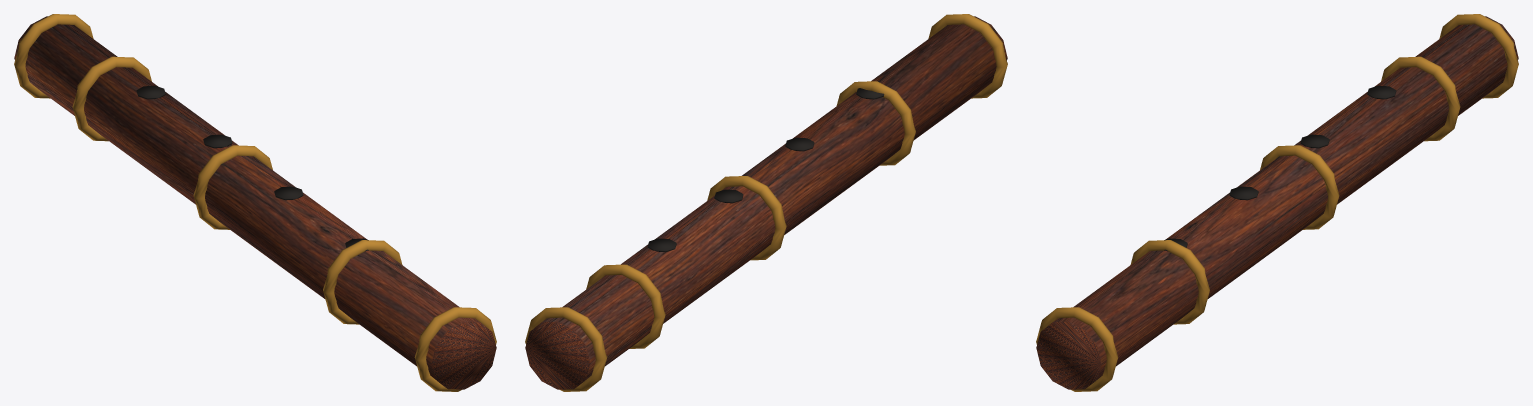
The model's file is item_flute.glb.
The picture shows the model from 3 angles, left to right: view 1: azimuth 30°, elevation 25°; view 2: azimuth 150°, elevation 25°; view 3: azimuth 330°, elevation 25°; orthographic projection.
Parts seen in each view (by area): view 1: props_flute; view 2: props_flute; view 3: props_flute.
Boxes of the visible parts, x1=… form: props_flute: x1=14, y1=14, x2=496, y2=391; props_flute: x1=525, y1=14, x2=1007, y2=391; props_flute: x1=1036, y1=14, x2=1518, y2=391.
Bounding box in the file's own units: 0.112 × 0.112 × 1.
3 materials, 1 textured.
